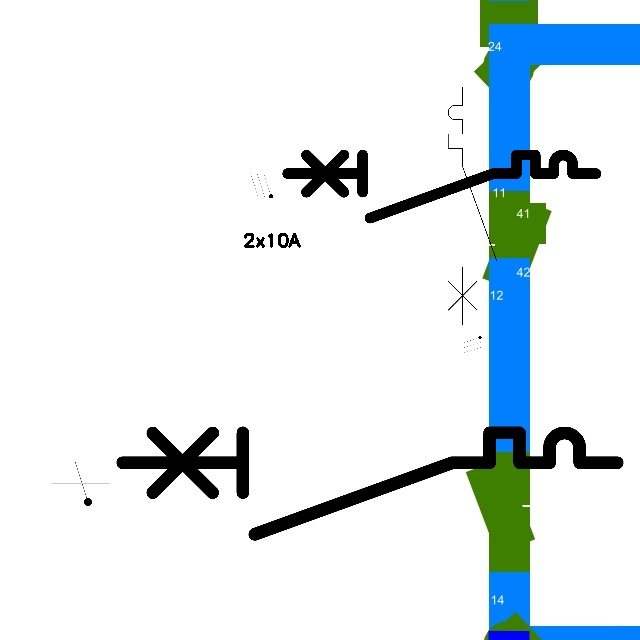interruptor_termomagnetico: (109, 420, 629, 547), (279, 147, 604, 226), (442, 81, 503, 331)
